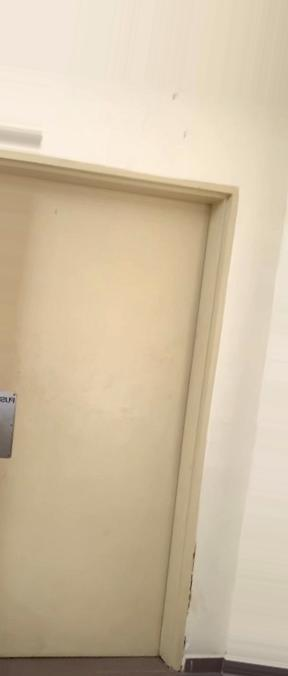door: (0, 183, 225, 663)
